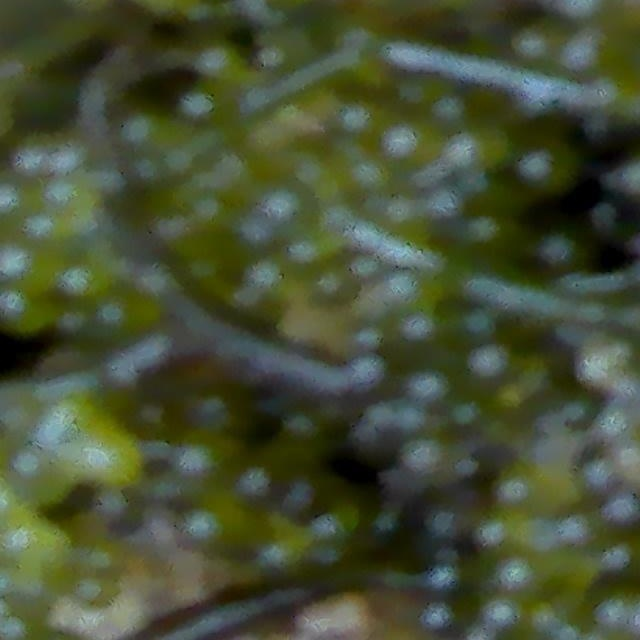SeaGrape: (68, 429, 139, 486), (0, 286, 55, 339), (0, 242, 56, 293), (127, 107, 174, 159), (403, 446, 457, 489), (46, 177, 93, 223), (349, 417, 395, 464), (198, 46, 254, 84), (603, 487, 640, 542), (22, 212, 73, 251), (65, 260, 109, 300), (468, 343, 510, 384), (0, 175, 31, 227)
